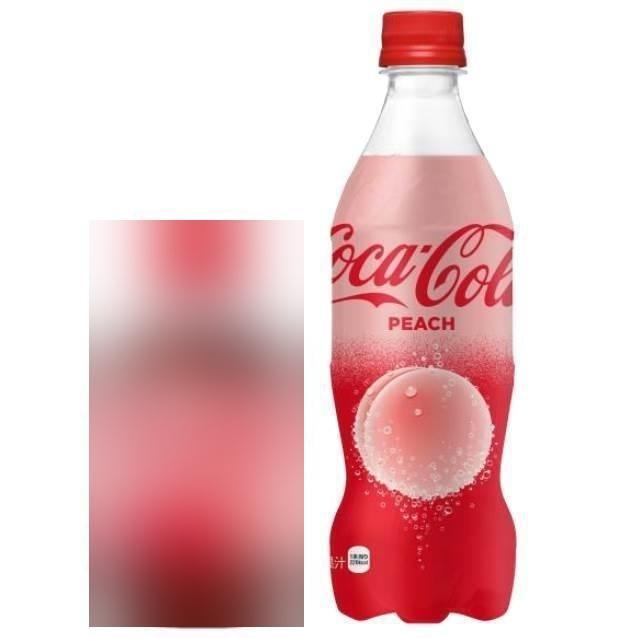bottle-plastic: (321, 3, 523, 637)
